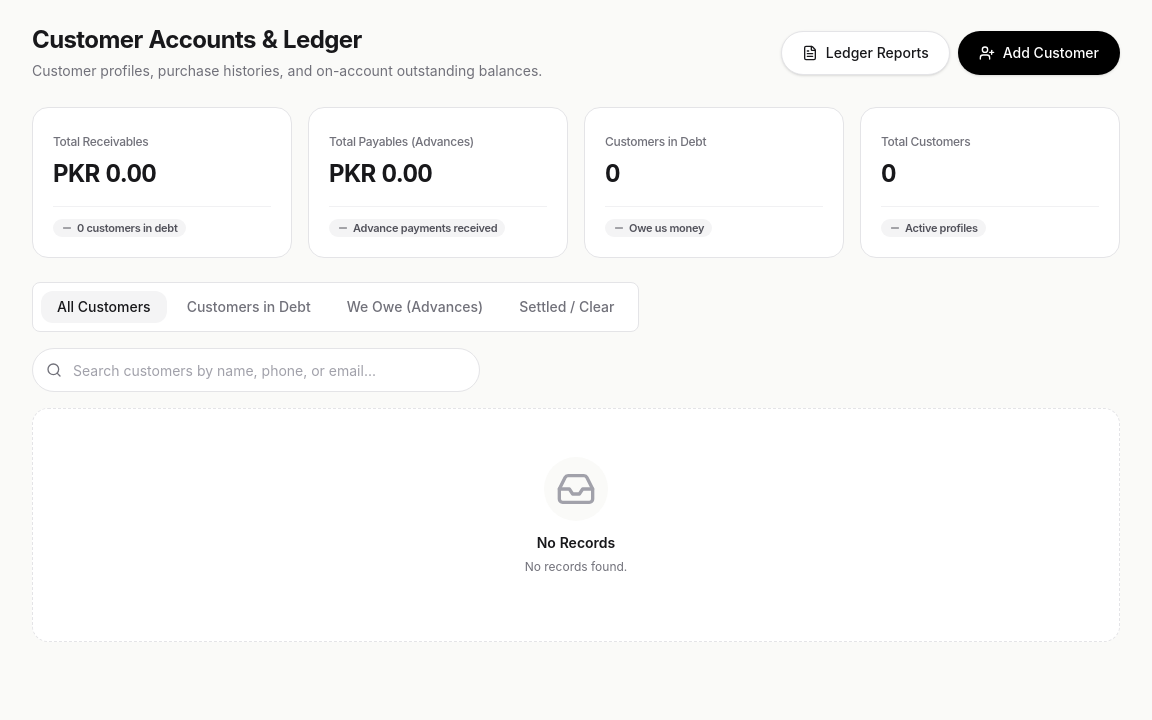
Test: customer form parity › sends the email when creating a customer
Expected: the heading "Customer Accounts & Ledger" is shown, [32,25,362,54]
Click the button "Add Customer" at (1039, 53), box [958,31,1120,75]
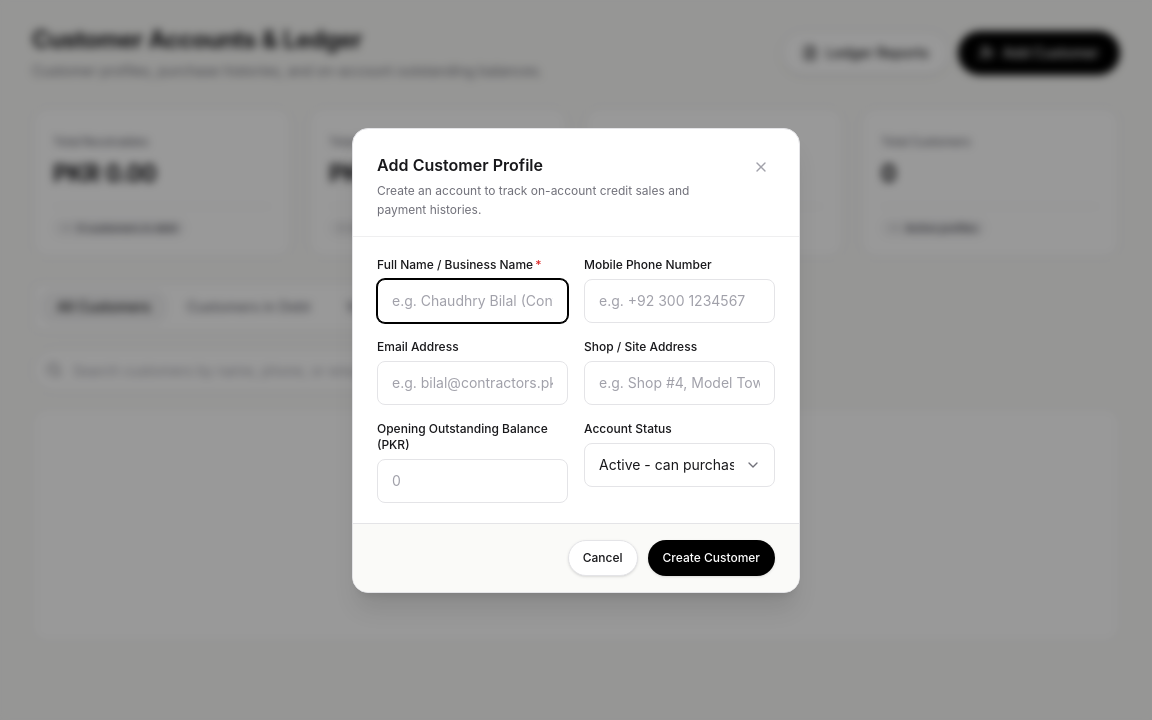
Now the heading "Add Customer Profile" is shown, box [377,154,543,174]
Type "Bilal Traders" into the field with placeholder "e.g. Chaudhry Bilal (Contractor)" at (472, 300), box [377,278,568,322]
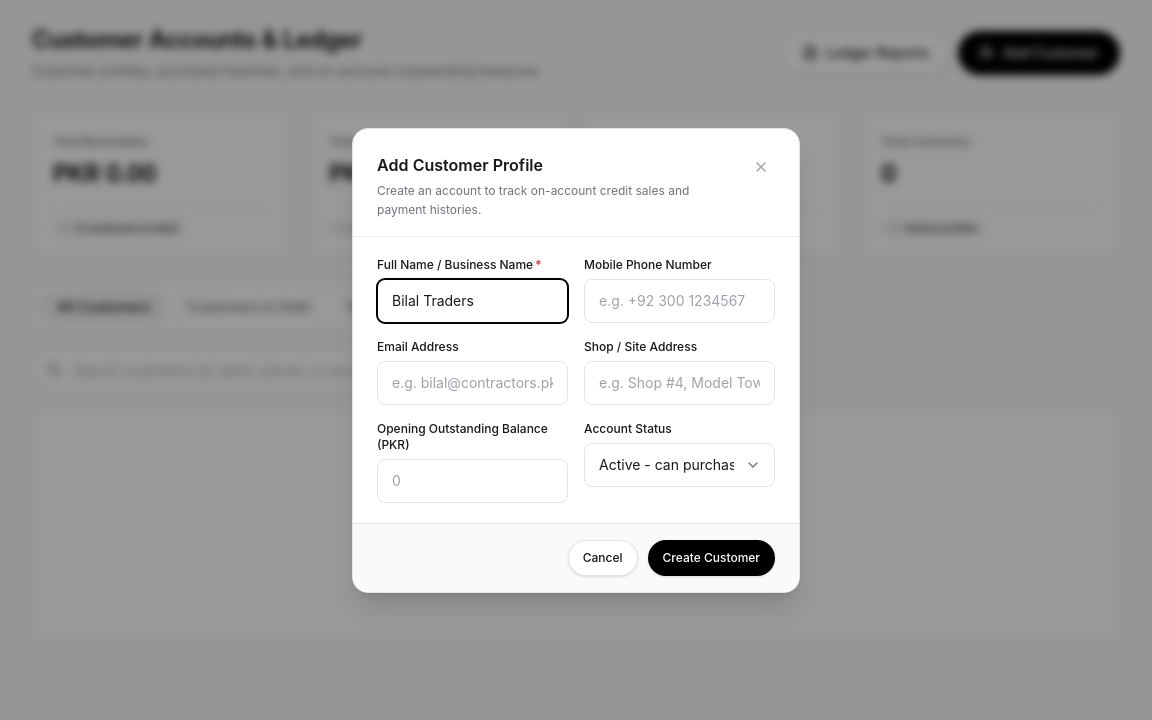
Type "+92 300 1234567" into the field with placeholder "e.g. +92 300 1234567" at (680, 300), box [584,278,775,322]
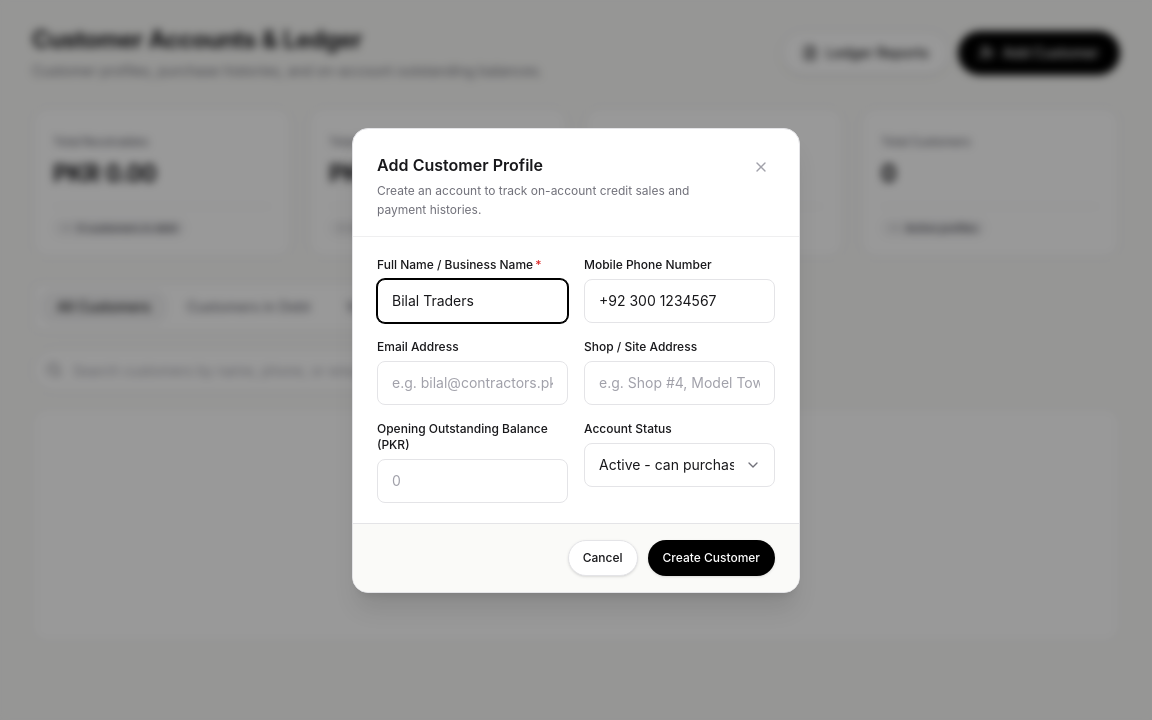
Type "bilal@contractors.pk" into the field with placeholder "e.g. bilal@contractors.pk" at (472, 382), box [377,360,568,404]
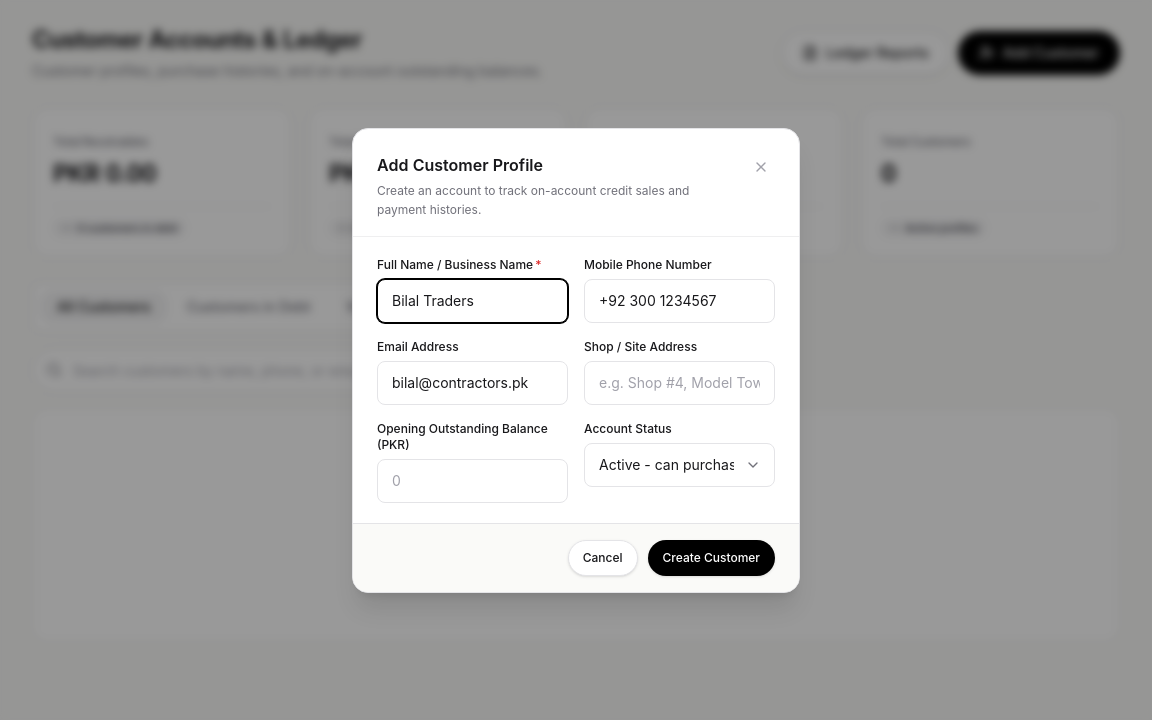
Click the button "Create Customer" at (711, 558), box [648,540,775,576]
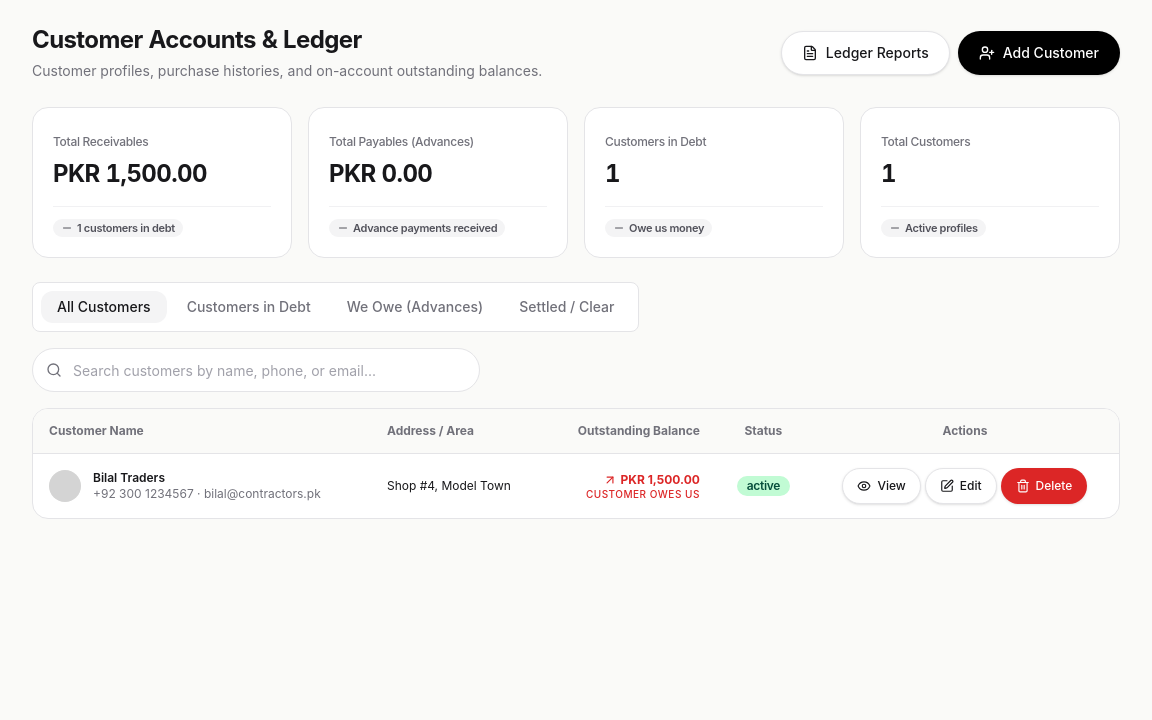
Now the text "Bilal Traders" is shown, box [93,470,165,485]
